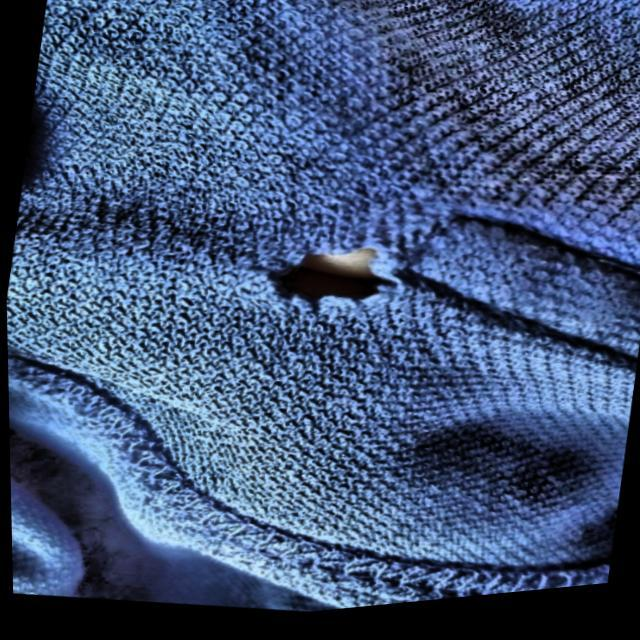hole: (260, 237, 401, 315)
seam: (6, 355, 616, 600)
